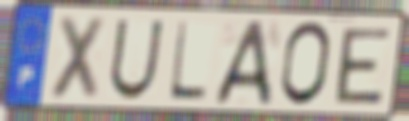A: (211, 18, 275, 107)
E: (334, 26, 394, 107)
L: (166, 19, 211, 104)
O: (277, 19, 334, 110)
U: (106, 17, 167, 103)
X: (46, 13, 109, 104)
